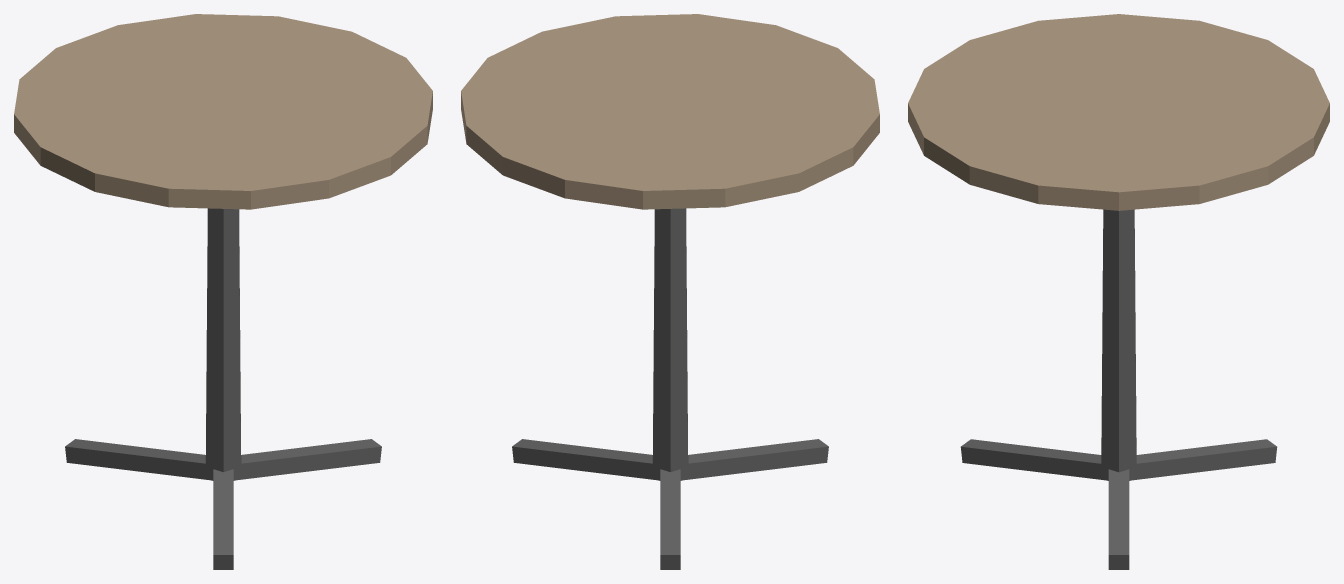
File: SM_BM_BP_CafeTable.glb
3 renders of one model, left to right at view 1: azimuth 30°, elevation 25°; view 2: azimuth 150°, elevation 25°; view 3: azimuth 270°, elevation 25°, orthographic.
Visible parts, largest first — view 1: SM_BM_BP_CafeTable; view 2: SM_BM_BP_CafeTable; view 3: SM_BM_BP_CafeTable.
Boxes of the visible parts, x1,y1,x2,y2 form: SM_BM_BP_CafeTable: (14, 14, 432, 569); SM_BM_BP_CafeTable: (461, 14, 879, 569); SM_BM_BP_CafeTable: (908, 14, 1329, 569).
Size of the model in its own units: 0.72 by 0.7399 by 0.72.
